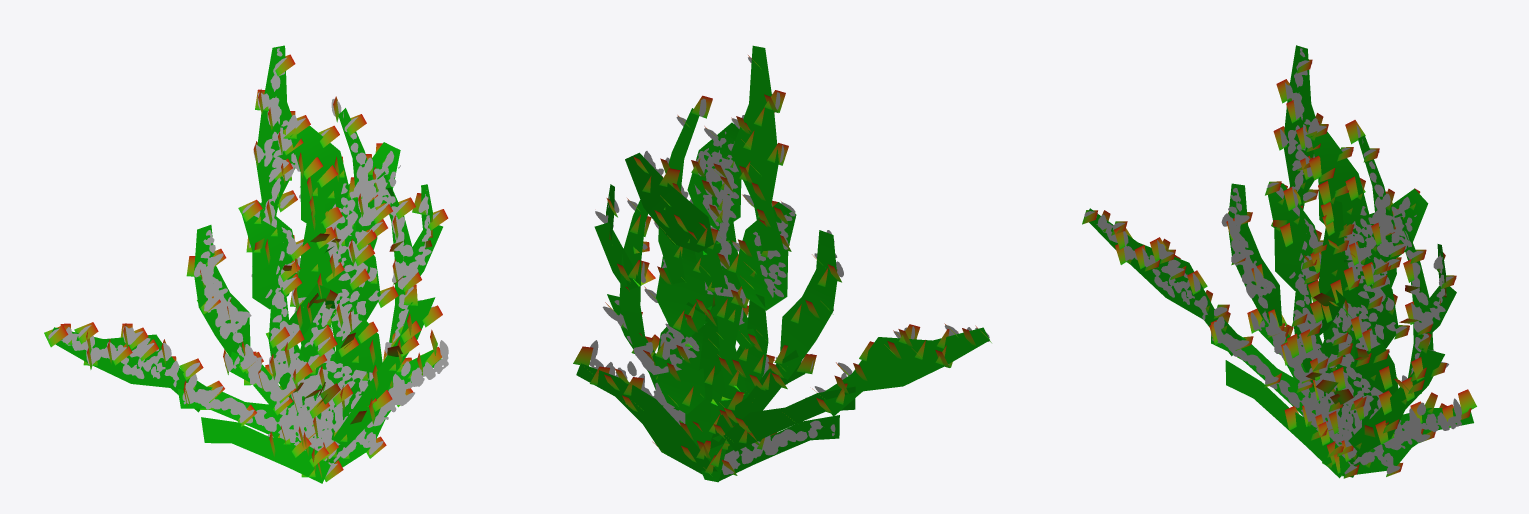
The model's file is Ivy_A3.fbx.
3 renders of one model, left to right at view 1: azimuth 30°, elevation 25°; view 2: azimuth 150°, elevation 25°; view 3: azimuth 330°, elevation 25°, orthographic. The views are drawn at different scales.
Visible parts, largest first — view 1: Ivy_A3_LOD0, Ivy_A3_BillBoard; view 2: Ivy_A3_LOD0, Ivy_A3_BillBoard; view 3: Ivy_A3_LOD0, Ivy_A3_BillBoard.
Boxes of the visible parts, box(x1,y1,x2,y2) form: Ivy_A3_LOD0: box(44, 45, 448, 483); Ivy_A3_BillBoard: box(48, 48, 448, 476); Ivy_A3_LOD0: box(573, 45, 991, 482); Ivy_A3_BillBoard: box(589, 57, 989, 474); Ivy_A3_LOD0: box(1082, 45, 1476, 478); Ivy_A3_BillBoard: box(1084, 48, 1461, 474).
Size of what is drawn, in the model's own units: 106 by 99.69 by 10.21.
